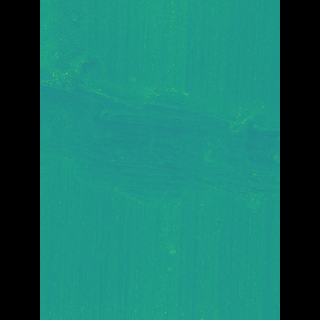Loch: (70, 57, 250, 210)
